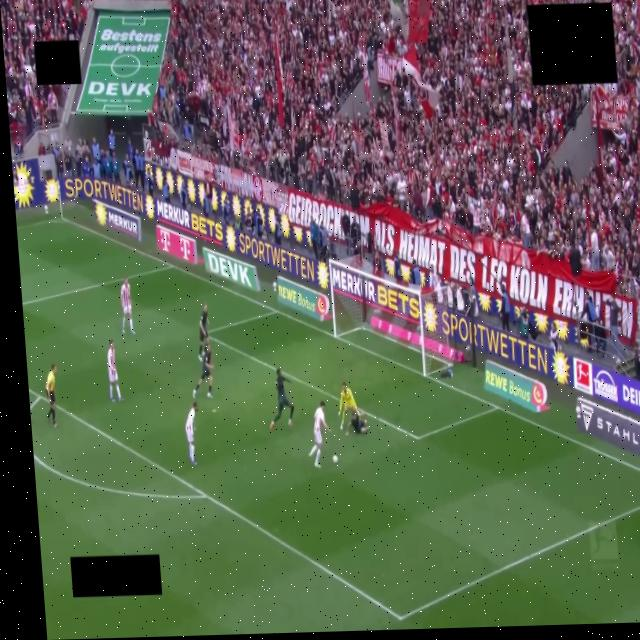ball: (333, 455, 338, 463)
player: (270, 369, 294, 430), (309, 401, 330, 468), (193, 343, 214, 399), (107, 340, 123, 402), (338, 383, 357, 430), (186, 402, 198, 465), (121, 277, 134, 334), (346, 410, 369, 435), (199, 304, 208, 361)
referee: (46, 364, 57, 427)
